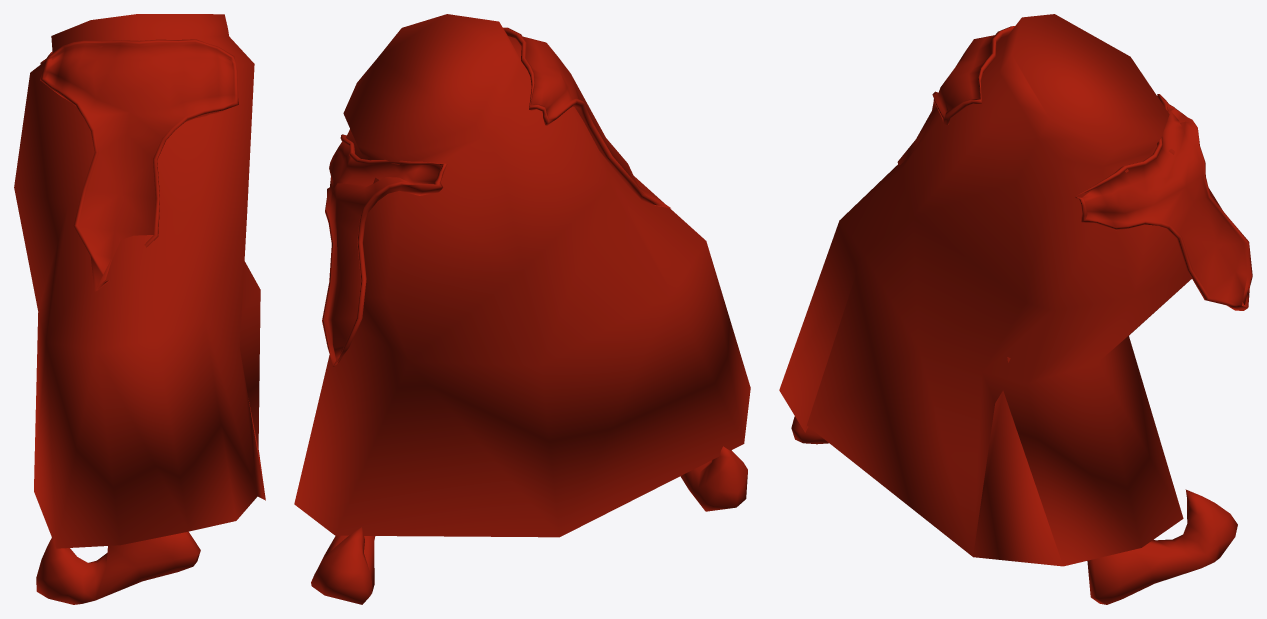
The model's file is bot_000057.obj.
The picture shows the model from 3 angles, left to right: view 1: azimuth 30°, elevation 25°; view 2: azimuth 150°, elevation 25°; view 3: azimuth 270°, elevation 25°; orthographic projection. The views are drawn at different scales.
Parts seen in each view (by area): view 1: LowPoly_Warlock.004_Plane.004; view 2: LowPoly_Warlock.004_Plane.004; view 3: LowPoly_Warlock.004_Plane.004.
Boxes of the visible parts, <box> form: LowPoly_Warlock.004_Plane.004: <box>14,14,265,604</box>; LowPoly_Warlock.004_Plane.004: <box>294,14,750,604</box>; LowPoly_Warlock.004_Plane.004: <box>779,14,1252,604</box>.
Bounding box in the file's own units: 0.6814 × 1.13 × 0.9075.
